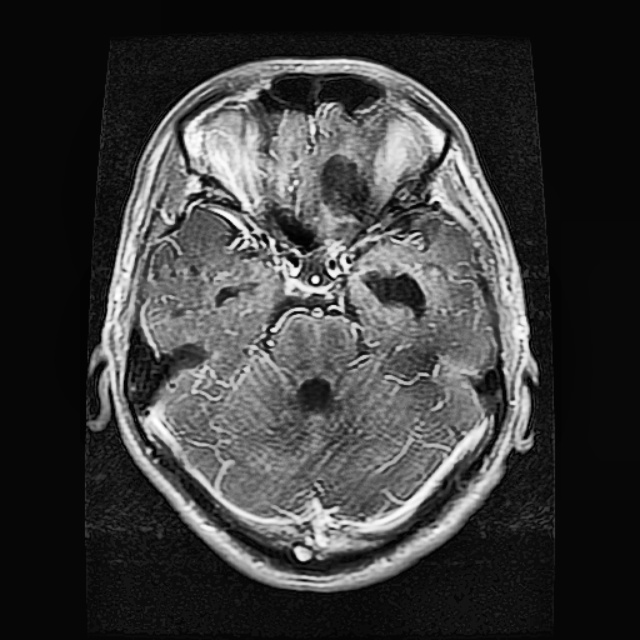Glioma: (318, 153, 372, 218)
